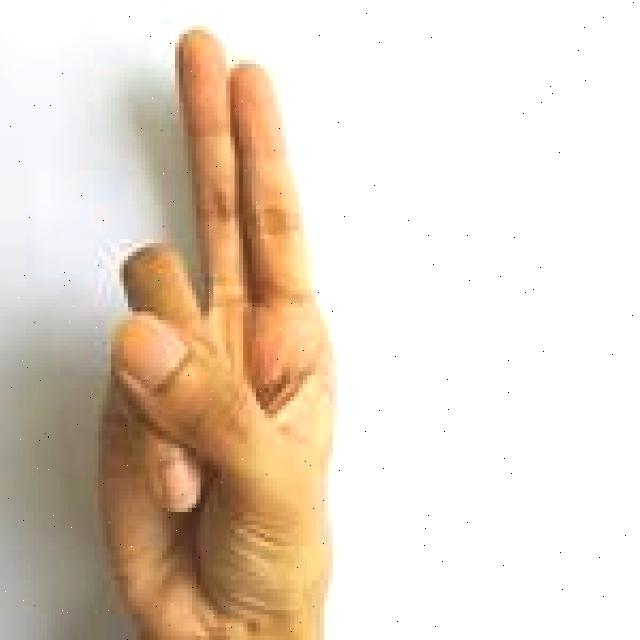U: (95, 19, 346, 640)
